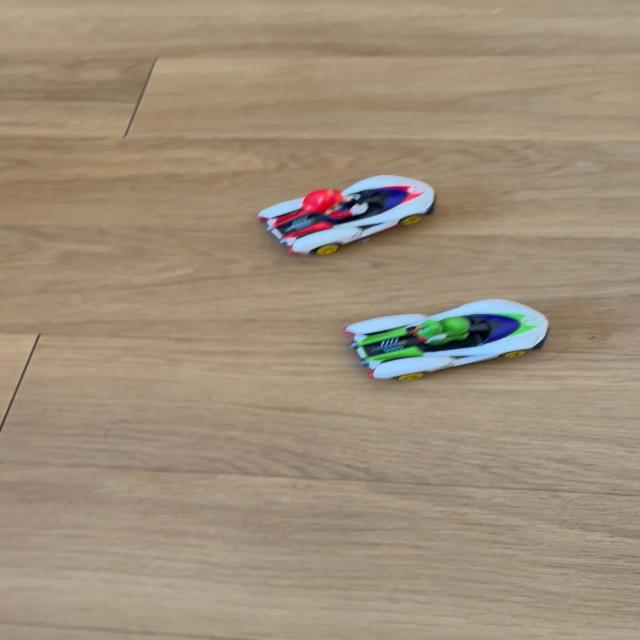mario: (247, 174, 455, 261)
yoshi: (336, 296, 565, 386)
